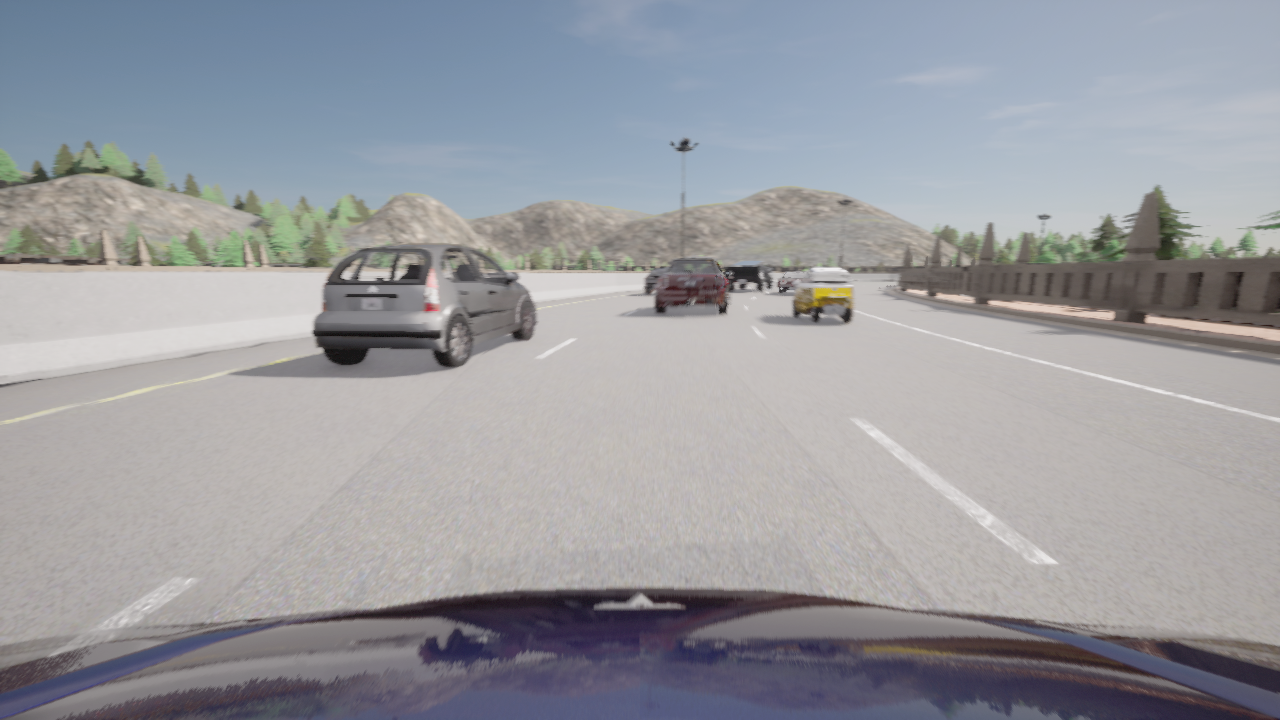cyclist: (0, 588, 1279, 719), (311, 244, 536, 367), (655, 253, 731, 314), (792, 267, 853, 323), (726, 260, 774, 291), (777, 272, 806, 294), (644, 268, 666, 294)
